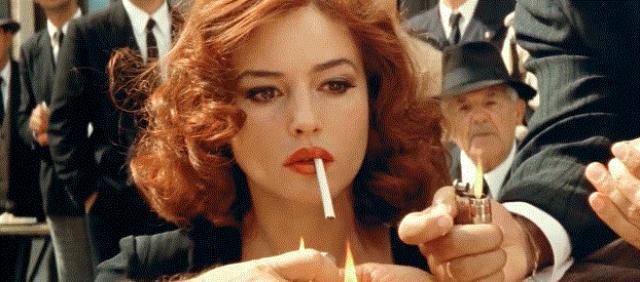SafeDriving: (236, 72, 292, 107), (310, 66, 358, 100)
Smoking: (310, 155, 342, 224)
